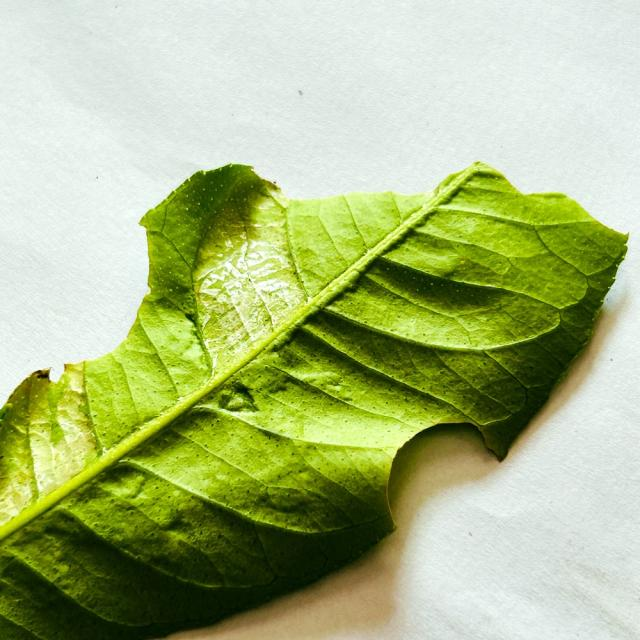Deficiency Leaf: (42, 222, 153, 374), (388, 424, 498, 530), (256, 158, 474, 203)
Lemon: (0, 163, 627, 639)
